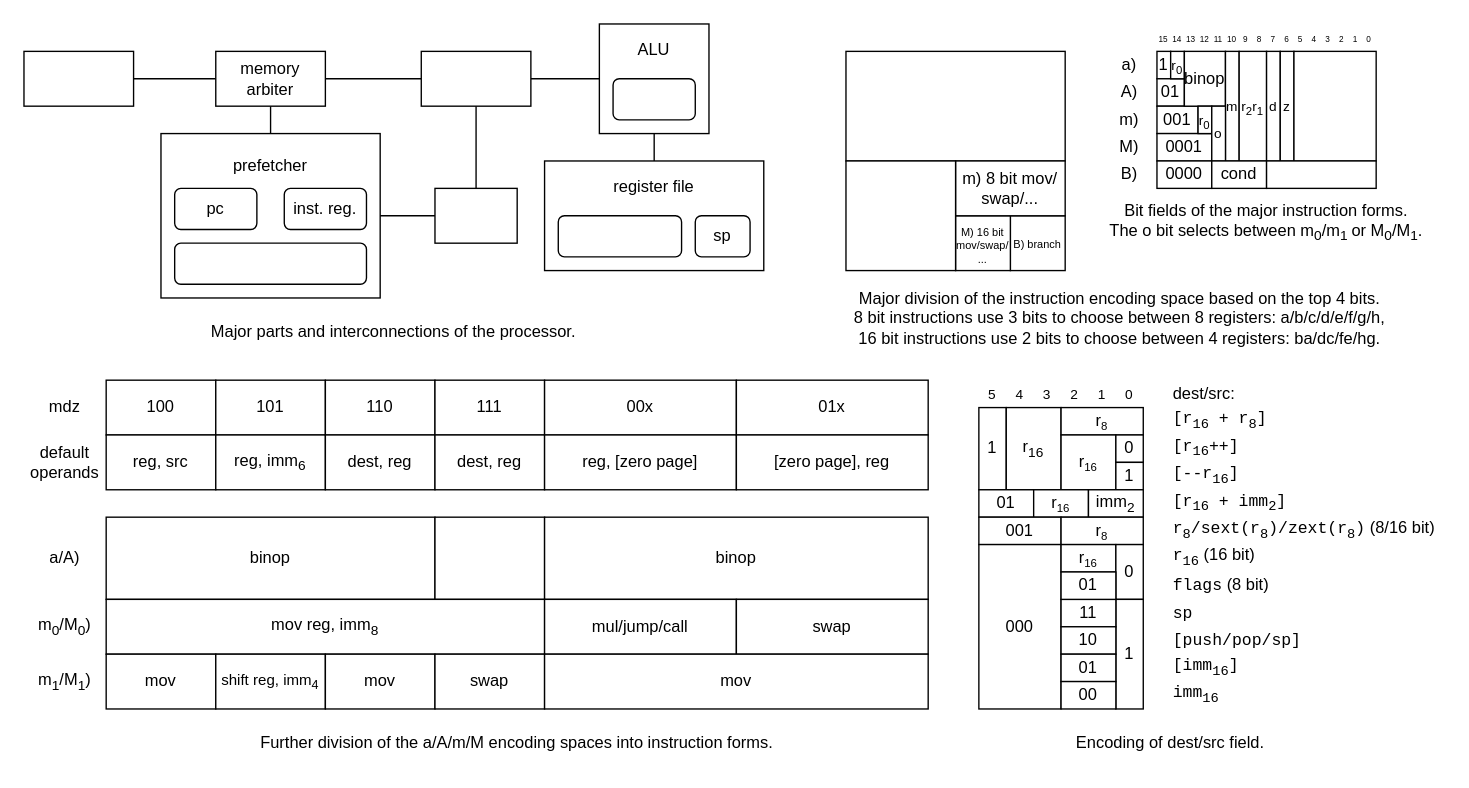
Image size: 1469x788. Some labels were removed from this diagram. The centre of each missing label's shape, as x and y in pixels:
"A) 16 bit binop" goes at point (900, 215).
"a) 8 bit binop" goes at point (955, 105).
"a/b/c/d/e/f/g/h" goes at point (619, 235).
"decoder" goes at point (475, 215).
"flags" goes at point (653, 98).
"imm 6 / dest/ src" goes at point (1334, 105).
"memory interface" goes at point (78, 78).
"offset" goes at point (1320, 174).
"prefetch queue" goes at point (269, 263).
"scheduler" goes at point (475, 78).
"shift reg, src" goes at point (489, 557).
